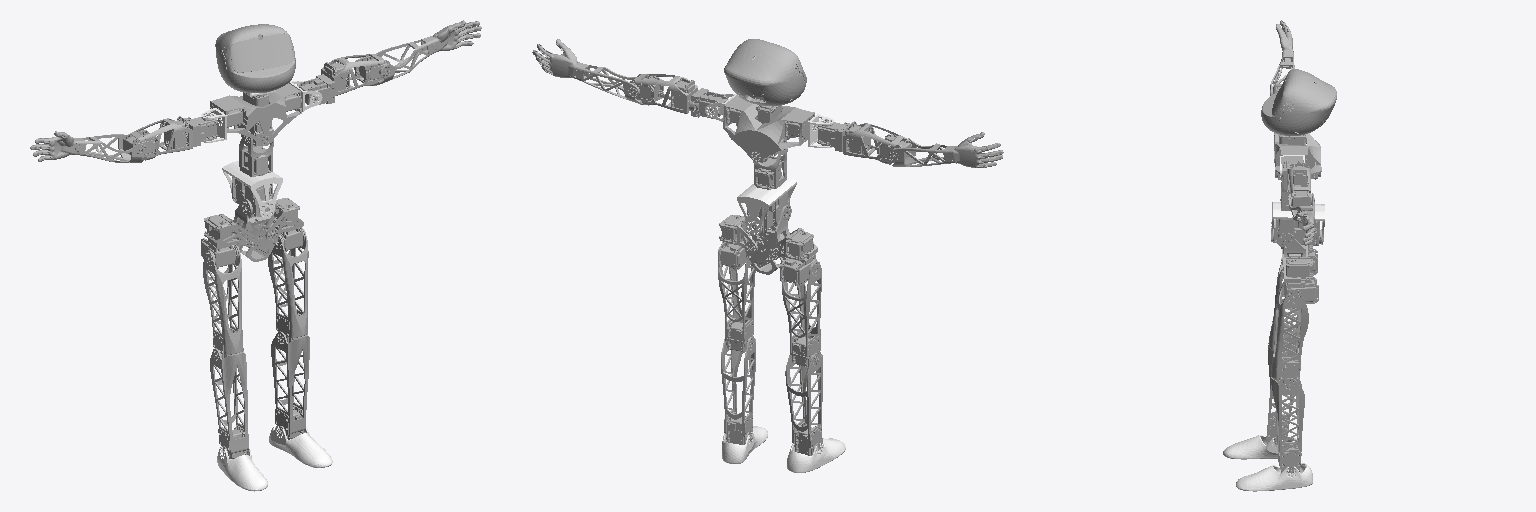
--- What the picture shows (computed from the rendered views, not written in the file) ---
3 views of the same robot in one strip: view 1: azimuth 30°, elevation 25°; view 2: azimuth 150°, elevation 25°; view 3: azimuth 270°, elevation 25° (orthographic).
Model Poppy_Humanoid with 26 links and 25 joints (25 continuous), rooted at pelvis, posed all joints at 0.
Links seen in each view (by area): view 1: head, chest, r_shin, r_thigh, l_shin, l_thigh, r_forearm, l_forearm, r_upper_arm, upper_arm, pelvis, l_foot (+9 smaller); view 2: head, chest, r_thigh, r_shin, l_shin, l_thigh, r_forearm, l_forearm, upper_arm, r_upper_arm, abdomen, pelvis (+10 smaller); view 3: head, l_thigh, l_shin, l_foot, chest, r_foot, upper_arm, abs_motors, l_hip, r_forearm, l_forearm, r_shin (+3 smaller).
Link boxes in pixels (box(x1,y1,x2,y2)): head: box(215, 24, 295, 92); chest: box(210, 83, 301, 145); r_shin: box(210, 348, 249, 458); r_thigh: box(203, 244, 243, 358); l_shin: box(271, 331, 309, 439); l_thigh: box(268, 228, 308, 342); r_forearm: box(30, 131, 146, 162); l_forearm: box(375, 20, 481, 85); r_upper_arm: box(123, 116, 192, 160); upper_arm: box(321, 54, 389, 95); pelvis: box(231, 199, 278, 261); l_foot: box(269, 425, 332, 467); head: box(724, 39, 806, 105); chest: box(723, 95, 815, 162); r_thigh: box(782, 261, 821, 367); r_shin: box(785, 352, 822, 455); l_shin: box(721, 336, 755, 444); l_thigh: box(718, 241, 755, 352); r_forearm: box(889, 132, 1003, 167); l_forearm: box(532, 39, 643, 104); upper_arm: box(629, 74, 697, 113); r_upper_arm: box(843, 121, 911, 164); abdomen: box(737, 175, 796, 234); pelvis: box(745, 205, 791, 274); head: box(1261, 69, 1336, 135); l_thigh: box(1271, 282, 1308, 386); l_shin: box(1271, 377, 1304, 475); l_foot: box(1236, 463, 1312, 491); chest: box(1274, 133, 1321, 177); r_foot: box(1223, 435, 1296, 459); upper_arm: box(1287, 163, 1314, 207); abs_motors: box(1273, 219, 1321, 245); l_hip: box(1282, 257, 1312, 282); r_forearm: box(1270, 20, 1294, 95); l_forearm: box(1288, 193, 1314, 245); r_shin: box(1266, 346, 1298, 446).
Size in the robot's own frame: 0.925 by 0.2142 by 0.8128 metres.
Meshes: 26 distinct files referenced, 26 mesh visuals loaded (26 binary STL).

The robot description file, URDF, robot "Poppy_Humanoid":
<?xml version="1.0" encoding="utf-8"?>
<!-- This URDF was automatically created by SolidWorks to URDF Exporter! Originally created by Stephen Brawner ([email redacted]) 
     Commit Version: 1.6.0-4-g7f85cfe  Build Version: 1.6.7995.38578
     For more information, please see http://wiki.ros.org/sw_urdf_exporter -->
<robot
  name="Poppy_Humanoid">
  <link
    name="pelvis">
    <inertial>
      <origin
        xyz="-0.000182673739714418 0.00155106487837645 0.000250000234069814"
        rpy="0 0 0" />
      <mass
        value="0.185914892869111" />
      <inertia
        ixx="8.32806339991229E-05"
        ixy="-7.59692647482749E-06"
        ixz="3.43586517476102E-09"
        iyy="4.94037348076893E-05"
        iyz="-2.91713589838576E-06"
        izz="8.60688415180713E-05" />
    </inertial>
    <visual>
      <origin
        xyz="0 0 0"
        rpy="0 0 0" />
      <geometry>
        <mesh
          filename="package://Poppy_Humanoid/meshes/pelvis.STL" />
      </geometry>
      <material
        name="">
        <color
          rgba="0.752941176470588 0.752941176470588 0.752941176470588 1" />
      </material>
    </visual>
    <collision>
      <origin
        xyz="0 0 0"
        rpy="0 0 0" />
      <geometry>
        <mesh
          filename="package://Poppy_Humanoid/meshes/pelvis.STL" />
      </geometry>
    </collision>
  </link>
  <link
    name="r_hip">
    <inertial>
      <origin
        xyz="-0.041964776542216 0.0190498540999391 -0.00489206040339155"
        rpy="0 0 0" />
      <mass
        value="0.0846246648821324" />
      <inertia
        ixx="2.55351583272241E-05"
        ixy="1.72351468064852E-07"
        ixz="8.8514173240287E-07"
        iyy="2.45840967279166E-05"
        iyz="2.83096328264019E-07"
        izz="1.76714759671868E-05" />
    </inertial>
    <visual>
      <origin
        xyz="0 0 0"
        rpy="0 0 0" />
      <geometry>
        <mesh
          filename="package://Poppy_Humanoid/meshes/r_hip.STL" />
      </geometry>
      <material
        name="">
        <color
          rgba="0.752941176470588 0.752941176470588 0.752941176470588 1" />
      </material>
    </visual>
    <collision>
      <origin
        xyz="0 0 0"
        rpy="0 0 0" />
      <geometry>
        <mesh
          filename="package://Poppy_Humanoid/meshes/r_hip.STL" />
      </geometry>
    </collision>
  </link>
  <joint
    name="r_hip_x"
    type="continuous">
    <origin
      xyz="-0.022542 0 0"
      rpy="1.5708 -0.023715 0" />
    <parent
      link="pelvis" />
    <child
      link="r_hip" />
    <axis
      xyz="0 0 1" />
  </joint>
  <link
    name="r_hip_motor">
    <inertial>
      <origin
        xyz="0.000109947822346662 -0.0232479247460417 -0.0143205703484508"
        rpy="0 0 0" />
      <mass
        value="0.139059604743432" />
      <inertia
        ixx="4.46493944169366E-05"
        ixy="-1.17597837528885E-12"
        ixz="5.1457236755553E-07"
        iyy="5.2404702390709E-05"
        iyz="2.7482750146531E-09"
        izz="2.97534383204201E-05" />
    </inertial>
    <visual>
      <origin
        xyz="0 0 0"
        rpy="0 0 0" />
      <geometry>
        <mesh
          filename="package://Poppy_Humanoid/meshes/r_hip_motor.STL" />
      </geometry>
      <material
        name="">
        <color
          rgba="0.752941176470588 0.752941176470588 0.752941176470588 1" />
      </material>
    </visual>
    <collision>
      <origin
        xyz="0 0 0"
        rpy="0 0 0" />
      <geometry>
        <mesh
          filename="package://Poppy_Humanoid/meshes/r_hip_motor.STL" />
      </geometry>
    </collision>
  </link>
  <joint
    name="r_hip_z"
    type="continuous">
    <origin
      xyz="-0.043999 0 0.005"
      rpy="0 -0.044101 0" />
    <parent
      link="r_hip" />
    <child
      link="r_hip_motor" />
    <axis
      xyz="0 1 0" />
  </joint>
  <link
    name="r_thigh">
    <inertial>
      <origin
        xyz="-4.85546752001798E-05 -0.142940863185127 0.00161304353481877"
        rpy="0 0 0" />
      <mass
        value="0.117090824417578" />
      <inertia
        ixx="0.000149417237809549"
        ixy="-2.9615187146168E-07"
        ixz="2.64082534981482E-09"
        iyy="4.1393197264348E-05"
        iyz="1.12759306102231E-05"
        izz="0.000151523990233305" />
    </inertial>
    <visual>
      <origin
        xyz="0 0 0"
        rpy="0 0 0" />
      <geometry>
        <mesh
          filename="package://Poppy_Humanoid/meshes/r_thigh.STL" />
      </geometry>
      <material
        name="">
        <color
          rgba="0.752941176470588 0.752941176470588 0.752941176470588 1" />
      </material>
    </visual>
    <collision>
      <origin
        xyz="0 0 0"
        rpy="0 0 0" />
      <geometry>
        <mesh
          filename="package://Poppy_Humanoid/meshes/r_thigh.STL" />
      </geometry>
    </collision>
  </link>
  <joint
    name="r_hip_y"
    type="continuous">
    <origin
      xyz="0 -0.024000000000001 0"
      rpy="-0.0654809290674927 0 0" />
    <parent
      link="r_hip_motor" />
    <child
      link="r_thigh" />
    <axis
      xyz="1 0 0" />
  </joint>
  <link
    name="r_shin">
    <inertial>
      <origin
        xyz="-0.00139035559058887 -0.139920290782115 5.03051603550492E-05"
        rpy="0 0 0" />
      <mass
        value="0.110784895046905" />
      <inertia
        ixx="0.000140479944518955"
        ixy="4.96421445084122E-06"
        ixz="1.82633898388696E-09"
        iyy="3.43543096369098E-05"
        iyz="3.07779201226862E-07"
        izz="0.000138042387894843" />
    </inertial>
    <visual>
      <origin
        xyz="0 0 0"
        rpy="0 0 0" />
      <geometry>
        <mesh
          filename="package://Poppy_Humanoid/meshes/r_shin.STL" />
      </geometry>
      <material
        name="">
        <color
          rgba="0.752941176470588 0.752941176470588 0.752941176470588 1" />
      </material>
    </visual>
    <collision>
      <origin
        xyz="0 0 0"
        rpy="0 0 0" />
      <geometry>
        <mesh
          filename="package://Poppy_Humanoid/meshes/r_shin.STL" />
      </geometry>
    </collision>
  </link>
  <joint
    name="r_knee_y"
    type="continuous">
    <origin
      xyz="0 -0.182 0"
      rpy="-1.57079632679487 1.544754172667 -1.57079632679487" />
    <parent
      link="r_thigh" />
    <child
      link="r_shin" />
    <axis
      xyz="0 0 1" />
  </joint>
  <link
    name="r_foot">
    <inertial>
      <origin
        xyz="-0.00242721348024059 -0.0233556655681074 0.0268820128500432"
        rpy="0 0 0" />
      <mass
        value="0.0467396305777624" />
      <inertia
        ixx="8.13655442785262E-05"
        ixy="-1.76501924950925E-07"
        ixz="2.41240489631906E-06"
        iyy="8.85716799745483E-05"
        iyz="3.20710729117421E-06"
        izz="1.79032798228047E-05" />
    </inertial>
    <visual>
      <origin
        xyz="0 0 0"
        rpy="0 0 0" />
      <geometry>
        <mesh
          filename="package://Poppy_Humanoid/meshes/r_foot.STL" />
      </geometry>
      <material
        name="">
        <color
          rgba="1 1 1 1" />
      </material>
    </visual>
    <collision>
      <origin
        xyz="0 0 0"
        rpy="0 0 0" />
      <geometry>
        <mesh
          filename="package://Poppy_Humanoid/meshes/r_foot.STL" />
      </geometry>
    </collision>
  </link>
  <joint
    name="r_ankle_y"
    type="continuous">
    <origin
      xyz="0 -0.18 0"
      rpy="0.820889590068429 -1.57079631189374 -0.719479139420092" />
    <parent
      link="r_shin" />
    <child
      link="r_foot" />
    <axis
      xyz="-1 0 0" />
  </joint>
  <link
    name="l_hip">
    <inertial>
      <origin
        xyz="0.0419588683478139 0.0190472099707547 -0.00488821387952639"
        rpy="0 0 0" />
      <mass
        value="0.0846364163317082" />
      <inertia
        ixx="2.55415838457327E-05"
        ixy="-1.76489184090987E-07"
        ixz="-8.79211529479094E-07"
        iyy="2.45971459482072E-05"
        iyz="2.85947710152017E-07"
        izz="1.76827995103566E-05" />
    </inertial>
    <visual>
      <origin
        xyz="0 0 0"
        rpy="0 0 0" />
      <geometry>
        <mesh
          filename="package://Poppy_Humanoid/meshes/l_hip.STL" />
      </geometry>
      <material
        name="">
        <color
          rgba="0.752941176470588 0.752941176470588 0.752941176470588 1" />
      </material>
    </visual>
    <collision>
      <origin
        xyz="0 0 0"
        rpy="0 0 0" />
      <geometry>
        <mesh
          filename="package://Poppy_Humanoid/meshes/l_hip.STL" />
      </geometry>
    </collision>
  </link>
  <joint
    name="l_hip_x"
    type="continuous">
    <origin
      xyz="0.0225417390633466 0 0"
      rpy="1.5707963267949 0 0" />
    <parent
      link="pelvis" />
    <child
      link="l_hip" />
    <axis
      xyz="0 0 1" />
  </joint>
  <link
    name="l_hip_motor">
    <inertial>
      <origin
        xyz="-0.000109947844566832 -0.0232479240597816 -0.0143205703730398"
        rpy="0 0 0" />
      <mass
        value="0.139059605355699" />
      <inertia
        ixx="4.46493946800906E-05"
        ixy="-1.18357603225403E-12"
        ixz="-5.14572392769494E-07"
        iyy="5.24047026280284E-05"
        iyz="2.74365211316976E-09"
        izz="2.97534383829136E-05" />
    </inertial>
    <visual>
      <origin
        xyz="0 0 0"
        rpy="0 0 0" />
      <geometry>
        <mesh
          filename="package://Poppy_Humanoid/meshes/l_hip_motor.STL" />
      </geometry>
      <material
        name="">
        <color
          rgba="0.752941176470588 0.752941176470588 0.752941176470588 1" />
      </material>
    </visual>
    <collision>
      <origin
        xyz="0 0 0"
        rpy="0 0 0" />
      <geometry>
        <mesh
          filename="package://Poppy_Humanoid/meshes/l_hip_motor.STL" />
      </geometry>
    </collision>
  </link>
  <joint
    name="l_hip_z"
    type="continuous">
    <origin
      xyz="0.0439986111539756 0 0.00499999999999817"
      rpy="0 0.12300371754066 0" />
    <parent
      link="l_hip" />
    <child
      link="l_hip_motor" />
    <axis
      xyz="0 1 0" />
  </joint>
  <link
    name="l_thigh">
    <inertial>
      <origin
        xyz="-0.000253143367679648 -0.142941764746423 0.00161242178317134"
        rpy="0 0 0" />
      <mass
        value="0.117090454170724" />
      <inertia
        ixx="0.000149420417490303"
        ixy="3.12823084652693E-07"
        ixz="2.70070116987997E-09"
        iyy="4.13919855686854E-05"
        iyz="1.12745163017725E-05"
        izz="0.000151530863840472" />
    </inertial>
    <visual>
      <origin
        xyz="0 0 0"
        rpy="0 0 0" />
      <geometry>
        <mesh
          filename="package://Poppy_Humanoid/meshes/l_thigh.STL" />
      </geometry>
      <material
        name="">
        <color
          rgba="0.752941176470588 0.752941176470588 0.752941176470588 1" />
      </material>
    </visual>
    <collision>
      <origin
        xyz="0 0 0"
        rpy="0 0 0" />
      <geometry>
        <mesh
          filename="package://Poppy_Humanoid/meshes/l_thigh.STL" />
      </geometry>
    </collision>
  </link>
  <joint
    name="l_hip_y"
    type="continuous">
    <origin
      xyz="0 -0.0240000000000002 0"
      rpy="-0.0397561965411015 0 0" />
    <parent
      link="l_hip_motor" />
    <child
      link="l_thigh" />
    <axis
      xyz="1 0 0" />
  </joint>
  <link
    name="l_shin">
    <inertial>
      <origin
        xyz="-0.00139051978430264 -0.139916504246731 -0.000353128648782744"
        rpy="0 0 0" />
      <mass
        value="0.110769292574838" />
      <inertia
        ixx="0.000140472060809585"
        ixy="4.96395263819689E-06"
        ixz="1.39496170488084E-09"
        iyy="3.43548651025464E-05"
        iyz="-3.00892682837703E-07"
        izz="0.000138034020570493" />
    </inertial>
    <visual>
      <origin
        xyz="0 0 0"
        rpy="0 0 0" />
      <geometry>
        <mesh
          filename="package://Poppy_Humanoid/meshes/l_shin.STL" />
      </geometry>
      <material
        name="">
        <color
          rgba="0.752941176470588 0.752941176470588 0.752941176470588 1" />
      </material>
    </visual>
    <collision>
      <origin
        xyz="0 0 0"
        rpy="0 0 0" />
      <geometry>
        <mesh
          filename="package://Poppy_Humanoid/meshes/l_shin.STL" />
      </geometry>
    </collision>
  </link>
  <joint
    name="l_knee_y"
    type="continuous">
    <origin
      xyz="0 -0.182 0"
      rpy="1.57079632679487 1.51589948598406 1.57079632679487" />
    <parent
      link="l_thigh" />
    <child
      link="l_shin" />
    <axis
      xyz="0 0 1" />
  </joint>
  <link
    name="l_foot">
    <inertial>
      <origin
        xyz="0.00213213061471686 -0.0233396988808524 0.0268636941753942"
        rpy="0 0 0" />
      <mass
        value="0.0467790639866005" />
      <inertia
        ixx="8.14030741542412E-05"
        ixy="1.76744351428458E-07"
        ixz="-2.41807263681323E-06"
        iyy="8.85969917655573E-05"
        iyz="3.21556772110656E-06"
        izz="1.79238545840962E-05" />
    </inertial>
    <visual>
      <origin
        xyz="0 0 0"
        rpy="0 0 0" />
      <geometry>
        <mesh
          filename="package://Poppy_Humanoid/meshes/l_foot.STL" />
      </geometry>
      <material
        name="">
        <color
          rgba="1 1 1 1" />
      </material>
    </visual>
    <collision>
      <origin
        xyz="0 0 0"
        rpy="0 0 0" />
      <geometry>
        <mesh
          filename="package://Poppy_Humanoid/meshes/l_foot.STL" />
      </geometry>
    </collision>
  </link>
  <joint
    name="l_ankle_y"
    type="continuous">
    <origin
      xyz="0 -0.18 0"
      rpy="-0.0128652815618684 -1.57079631189374 -0.00223213914996515" />
    <parent
      link="l_shin" />
    <child
      link="l_foot" />
    <axis
      xyz="-1 0 0" />
  </joint>
  <link
    name="abs_motors">
    <inertial>
      <origin
        xyz="-5.48350659475258E-05 0.0142278112536821 -0.0200481491620194"
        rpy="0 0 0" />
      <mass
        value="0.278825904694366" />
      <inertia
        ixx="9.61566860452644E-05"
        ixy="5.14577473137665E-07"
        ixz="-2.52649571396667E-13"
        iyy="5.88468196573007E-05"
        iyz="-5.13861076616456E-07"
        izz="9.69453116287197E-05" />
    </inertial>
    <visual>
      <origin
        xyz="0 0 0"
        rpy="0 0 0" />
      <geometry>
        <mesh
          filename="package://Poppy_Humanoid/meshes/abs_motors.STL" />
      </geometry>
      <material
        name="">
        <color
          rgba="0.752941176470588 0.752941176470588 0.752941176470588 1" />
      </material>
    </visual>
    <collision>
      <origin
        xyz="0 0 0"
        rpy="0 0 0" />
      <geometry>
        <mesh
          filename="package://Poppy_Humanoid/meshes/abs_motors.STL" />
      </geometry>
    </collision>
  </link>
  <joint
    name="abs_y"
    type="continuous">
    <origin
      xyz="0 -0.017 0.061"
      rpy="1.51713961112434 0 0" />
    <parent
      link="pelvis" />
    <child
      link="abs_motors" />
    <axis
      xyz="-0.999972184193155 0.00745860844738909 0" />
  </joint>
  <link
    name="abdomen">
    <inertial>
      <origin
        xyz="-3.41781914026638E-07 0.0444051064388236 -0.0231726269447551"
        rpy="0 0 0" />
      <mass
        value="0.0379602798003174" />
      <inertia
        ixx="6.09515138512281E-05"
        ixy="-1.92962621256873E-11"
        ixz="-3.3075051472433E-09"
        iyy="6.12684651797849E-05"
        iyz="-3.90177668954189E-07"
        izz="2.39613019953646E-05" />
    </inertial>
    <visual>
      <origin
        xyz="0 0 0"
        rpy="0 0 0" />
      <geometry>
        <mesh
          filename="package://Poppy_Humanoid/meshes/abdomen.STL" />
      </geometry>
      <material
        name="">
        <color
          rgba="1 1 1 1" />
      </material>
    </visual>
    <collision>
      <origin
        xyz="0 0 0"
        rpy="0 0 0" />
      <geometry>
        <mesh
          filename="package://Poppy_Humanoid/meshes/abdomen.STL" />
      </geometry>
    </collision>
  </link>
  <joint
    name="abs_x"
    type="continuous">
    <origin
      xyz="0 0 0"
      rpy="0 0 -0.0074587" />
    <parent
      link="abs_motors" />
    <child
      link="abdomen" />
    <axis
      xyz="0 0 -1" />
  </joint>
  <link
    name="spine">
    <inertial>
      <origin
        xyz="-1.84473260871542E-07 0.0289345674635189 -0.0100888036775833"
        rpy="0 0 0" />
      <mass
        value="0.0929446390226476" />
      <inertia
        ixx="3.19375575516805E-05"
        ixy="7.06563414592741E-11"
        ixz="1.89326063928165E-10"
        iyy="2.67683783572167E-05"
        iyz="-6.45882209523109E-07"
        izz="2.68212767280831E-05" />
    </inertial>
    <visual>
      <origin
        xyz="0 0 0"
        rpy="0 0 0" />
      <geometry>
        <mesh
          filename="package://Poppy_Humanoid/meshes/spine.STL" />
      </geometry>
      <material
        name="">
        <color
          rgba="0.752941176470588 0.752941176470588 0.752941176470588 1" />
      </material>
    </visual>
    <collision>
      <origin
        xyz="0 0 0"
        rpy="0 0 0" />
      <geometry>
        <mesh
          filename="package://Poppy_Humanoid/meshes/spine.STL" />
      </geometry>
    </collision>
  </link>
  <joint
    name="abs_z"
    type="continuous">
    <origin
      xyz="0 0.0515349232274412 0"
      rpy="0 0.038996312540617 0" />
    <parent
      link="abdomen" />
    <child
      link="spine" />
    <axis
      xyz="0 -1 0" />
  </joint>
  <link
    name="bust_motors">
    <inertial>
      <origin
        xyz="3.50038584103389E-05 0.010505742917999 -0.0173736602251411"
        rpy="0 0 0" />
      <mass
        value="0.159259714956598" />
      <inertia
        ixx="3.82044671893239E-05"
        ixy="3.04090508148051E-07"
        ixz="-1.86041730229316E-12"
        iyy="2.55920673355131E-05"
        iyz="-3.01366421786436E-07"
        izz="3.85276728402881E-05" />
    </inertial>
    <visual>
      <origin
        xyz="0 0 0"
        rpy="0 0 0" />
      <geometry>
        <mesh
          filename="package://Poppy_Humanoid/meshes/bust_motors.STL" />
      </geometry>
      <material
        name="">
        <color
          rgba="0.752941176470588 0.752941176470588 0.752941176470588 1" />
      </material>
    </visual>
    <collision>
      <origin
        xyz="0 0 0"
        rpy="0 0 0" />
      <geometry>
        <mesh
          filename="package://Poppy_Humanoid/meshes/bust_motors.STL" />
      </geometry>
    </collision>
  </link>
  <joint
    name="bust_y"
    type="continuous">
    <origin
      xyz="0 0.0799525509774566 0.00280000000000001"
      rpy="0.0536951329733316 0 0" />
    <parent
      link="spine" />
    <child
      link="bust_motors" />
    <axis
      xyz="1 0 0" />
  </joint>
  <link
    name="chest">
    <inertial>
      <origin
        xyz="6.52744026775182E-06 0.0514802357214017 -0.00960210074458947"
        rpy="0 0 0" />
      <mass
        value="0.270928891107039" />
      <inertia
        ixx="0.000128480630138179"
        ixy="1.17510782294165E-08"
        ixz="2.49869563877669E-08"
        iyy="0.000217429214728421"
        iyz="-6.28981349825238E-06"
        izz="0.000160505508410875" />
    </inertial>
    <visual>
      <origin
        xyz="0 0 0"
        rpy="0 0 0" />
      <geometry>
        <mesh
          filename="package://Poppy_Humanoid/meshes/chest.STL" />
      </geometry>
      <material
        name="">
        <color
          rgba="0.752941176470588 0.752941176470588 0.752941176470588 1" />
      </material>
    </visual>
    <collision>
      <origin
        xyz="0 0 0"
        rpy="0 0 0" />
      <geometry>
        <mesh
          filename="package://Poppy_Humanoid/meshes/chest.STL" />
      </geometry>
    </collision>
  </link>
  <joint
    name="bust_x"
    type="continuous">
    <origin
      xyz="0 0 0"
      rpy="0 0 0.00957078732054358" />
    <parent
      link="bust_motors" />
    <child
      link="chest" />
    <axis
      xyz="0 0 1" />
  </joint>
  <link
    name="neck">
    <inertial>
      <origin
        xyz="-0.000947044147532484 0.00898373633235444 -1.38777878078145E-17"
        rpy="0 0 0" />
      <mass
        value="0.00592634977544091" />
      <inertia
        ixx="7.60507933479521E-07"
        ixy="6.18800745586376E-08"
        ixz="7.87475943150482E-22"
        iyy="2.411476250881E-06"
        iyz="-7.77549775799846E-23"
        izz="2.64637566125347E-06" />
    </inertial>
    <visual>
      <origin
        xyz="0 0 0"
        rpy="0 0 0" />
      <geometry>
        <mesh
          filename="package://Poppy_Humanoid/meshes/neck.STL" />
      </geometry>
      <material
        name="">
        <color
          rgba="1 1 1 1" />
      </material>
    </visual>
    <collision>
      <origin
        xyz="0 0 0"
        rpy="0 0 0" />
      <geometry>
        <mesh
          filename="package://Poppy_Humanoid/meshes/neck.STL" />
      </geometry>
    </collision>
  </link>
  <joint
    name="head_z"
    type="continuous">
    <origin
      xyz="0 0.0839908898414324 0.00499999999999995"
      rpy="0 -0.150651615663017 0" />
    <parent
      link="chest" />
    <child
      link="neck" />
    <axis
      xyz="0 1 0" />
  </joint>
  <link
    name="head">
    <inertial>
      <origin
        xyz="0.000316260741590431 0.0274540292981018 -0.0143080126634857"
        rpy="0 0 0" />
      <mass
        value="0.163300049904492" />
      <inertia
        ixx="0.000174684950617698"
        ixy="-2.6352692747648E-07"
        ixz="5.8533823985754E-07"
        iyy="0.00023211150652244"
        iyz="3.03974025679324E-05"
        izz="0.000306840135076542" />
    </inertial>
    <visual>
      <origin
        xyz="0 0 0"
        rpy="0 0 0" />
      <geometry>
        <mesh
          filename="package://Poppy_Humanoid/meshes/head.STL" />
      </geometry>
      <material
        name="">
        <color
          rgba="0.752941176470588 0.752941176470588 0.752941176470588 1" />
      </material>
    </visual>
    <collision>
      <origin
        xyz="0 0 0"
        rpy="0 0 0" />
      <geometry>
        <mesh
          filename="package://Poppy_Humanoid/meshes/head.STL" />
      </geometry>
    </collision>
  </link>
  <joint
    name="head_y"
    type="continuous">
    <origin
      xyz="0 0.0200091101585678 0"
      rpy="-0.257122277257672 0 0" />
    <parent
      link="neck" />
    <child
      link="head" />
    <axis
      xyz="-1 0 0" />
  </joint>
  <link
    name="l_shoulder">
    <inertial>
      <origin
        xyz="0.00864523003367736 0.00140277930983301 -0.00905486918336045"
        rpy="0 0 0" />
      <mass
        value="0.00896396525678935" />
      <inertia
        ixx="3.66197072307527E-06"
        ixy="2.3644502985848E-08"
        ixz="-3.19853637868992E-08"
        iyy="3.69450208015046E-06"
        iyz="-6.97061422548079E-09"
        izz="2.09796395974385E-06" />
    </inertial>
    <visual>
      <origin
        xyz="0 0 0"
        rpy="0 0 0" />
      <geometry>
        <mesh
          filename="package://Poppy_Humanoid/meshes/l_shoulder.STL" />
      </geometry>
      <material
        name="">
        <color
          rgba="1 1 1 1" />
      </material>
    </visual>
    <collision>
      <origin
        xyz="0 0 0"
        rpy="0 0 0" />
      <geometry>
        <mesh
          filename="package://Poppy_Humanoid/meshes/l_shoulder.STL" />
      </geometry>
    </collision>
  </link>
  <joint
    name="l_shoulder_y"
    type="continuous">
    <origin
      xyz="0.0785588930792943 0.0499999999999995 0.00399999999999989"
      rpy="0.0226593678827122 0 0" />
    <parent
      link="chest" />
    <child
      link="l_shoulder" />
    <axis
      xyz="-1 0 0" />
  </joint>
  <link
    name="l_shoulder_motor">
    <inertial>
      <origin
        xyz="6.62335022993954E-07 -0.0129499194279119 -0.00858252029079602"
        rpy="0 0 0" />
      <mass
        value="0.0838780171424037" />
      <inertia
        ixx="2.18198071767779E-05"
        ixy="-4.72309999135834E-10"
        ixz="1.07522264084494E-09"
        iyy="1.50600025408577E-05"
        iyz="-2.99144629871921E-07"
        izz="1.87673842314372E-05" />
    </inertial>
    <visual>
      <origin
        xyz="0 0 0"
        rpy="0 0 0" />
      <geometry>
        <mesh
          filename="package://Poppy_Humanoid/meshes/l_shoulder_motor.STL" />
      </geometry>
      <material
        name="">
        <color
          rgba="0.752941176470588 0.752941176470588 0.752941176470588 1" />
      </material>
    </visual>
    <collision>
      <origin
        xyz="0 0 0"
        rpy="0 0 0" />
      <geometry>
        <mesh
          filename="package://Poppy_Humanoid/meshes/l_shoulder_motor.STL" />
      </geometry>
    </collision>
  </link>
  <joint
    name="l_shoulder_x"
    type="continuous">
    <origin
      xyz="0.0269411069207058 0 0"
      rpy="0 0 1.56874719947428" />
    <parent
      link="l_shoulder" />
    <child
      link="l_shoulder_motor" />
    <axis
      xyz="0 0 -1" />
  </joint>
  <link
    name="upper_arm">
    <inertial>
      <origin
        xyz="3.33272045042752E-05 -0.0626072551827437 0.0106229399797933"
        rpy="0 0 0" />
      <mass
        value="0.16737477111552" />
      <inertia
        ixx="5.92643504021223E-05"
        ixy="3.04797808199423E-07"
        ixz="2.21557104727228E-10"
        iyy="3.95086181957679E-05"
        iyz="-4.26864917429247E-07"
        izz="5.30046037273707E-05" />
    </inertial>
    <visual>
      <origin
        xyz="0 0 0"
        rpy="0 0 0" />
      <geometry>
        <mesh
          filename="package://Poppy_Humanoid/meshes/upper_arm.STL" />
      </geometry>
      <material
        name="">
        <color
          rgba="0.752941176470588 0.752941176470588 0.752941176470588 1" />
      </material>
    </visual>
    <collision>
      <origin
        xyz="0 0 0"
        rpy="0 0 0" />
      <geometry>
        <mesh
          filename="package://Poppy_Humanoid/meshes/upper_arm.STL" />
      </geometry>
    </collision>
  </link>
  <joint
    name="l_arm_z"
    type="continuous">
    <origin
      xyz="0 -0.0374405904973501 -0.0185000000000006"
      rpy="3.14159265358979 1.5546131469944 3.14159265358979" />
    <parent
      link="l_shoulder_motor" />
    <child
      link="upper_arm" />
    <axis
      xyz="0 1 0" />
  </joint>
  <link
    name="l_forearm">
    <inertial>
      <origin
        xyz="0.00689723447978666 -0.108296854960403 -0.00483977041181713"
        rpy="0 0 0" />
      <mass
        value="0.0473263583577053" />
      <inertia
        ixx="6.00337053784709E-05"
        ixy="2.75013030542932E-06"
        ixz="3.55413579215153E-07"
        iyy="1.37921260237243E-05"
        iyz="3.74074558271403E-06"
        izz="5.74557314807049E-05" />
    </inertial>
    <visual>
      <origin
        xyz="0 0 0"
        rpy="0 0 0" />
      <geometry>
        <mesh
          filename="package://Poppy_Humanoid/meshes/l_forearm.STL" />
      </geometry>
      <material
        name="">
        <color
          rgba="0.752941176470588 0.752941176470588 0.752941176470588 1" />
      </material>
    </visual>
    <collision>
      <origin
        xyz="0 0 0"
        rpy="0 0 0" />
      <geometry>
        <mesh
          filename="package://Poppy_Humanoid/meshes/l_forearm.STL" />
      </geometry>
    </collision>
  </link>
  <joint
    name="l_elbow_y"
    type="continuous">
    <origin
      xyz="0 -0.111559409502652 0.0100000000000002"
      rpy="-0.121325187109238 0 0" />
    <parent
      link="upper_arm" />
    <child
      link="l_forearm" />
    <axis
      xyz="1 0 0" />
  </joint>
  <link
    name="r_shoulder">
    <inertial>
      <origin
        xyz="-0.00864774202802029 0.00140286675566095 -0.00905451690979794"
        rpy="0 0 0" />
      <mass
        value="0.00896474372459065" />
      <inertia
        ixx="3.66212894061893E-06"
        ixy="-2.38203892850203E-08"
        ixz="3.20072630001393E-08"
        iyy="3.69457381923916E-06"
        iyz="-6.97614586584587E-09"
        izz="2.09801521172538E-06" />
    </inertial>
    <visual>
      <origin
        xyz="0 0 0"
        rpy="0 0 0" />
      <geometry>
        <mesh
          filename="package://Poppy_Humanoid/meshes/r_shoulder.STL" />
      </geometry>
      <material
        name="">
        <color
          rgba="1 1 1 1" />
      </material>
    </visual>
    <collision>
      <origin
        xyz="0 0 0"
        rpy="0 0 0" />
      <geometry>
        <mesh
          filename="package://Poppy_Humanoid/meshes/r_shoulder.STL" />
      </geometry>
    </collision>
  </link>
  <joint
    name="r_shoulder_y"
    type="continuous">
    <origin
      xyz="-0.0785571680205247 0.0499999999999997 0.00399999999999994"
      rpy="-1.57193529946344 0 0" />
    <parent
      link="chest" />
    <child
      link="r_shoulder" />
    <axis
      xyz="-1 0 0" />
  </joint>
  <link
    name="r_shoulder_motor">
    <inertial>
      <origin
        xyz="6.62286845615201E-07 -0.0129499197071435 -0.00858252081189093"
        rpy="0 0 0" />
      <mass
        value="0.083878021443538" />
      <inertia
        ixx="2.18198081054197E-05"
        ixy="-4.72237930656161E-10"
        ixz="1.07512540787159E-09"
        iyy="1.50600033587679E-05"
        iyz="-2.99144835447111E-07"
        izz="1.87673852016955E-05" />
    </inertial>
    <visual>
      <origin
        xyz="0 0 0"
        rpy="0 0 0" />
      <geometry>
        <mesh
          filename="package://Poppy_Humanoid/meshes/r_shoulder_motor.STL" />
      </geometry>
      <material
        name="">
        <color
          rgba="0.752941176470588 0.752941176470588 0.752941176470588 1" />
      </material>
    </visual>
    <collision>
      <origin
        xyz="0 0 0"
        rpy="0 0 0" />
      <geometry>
        <mesh
          filename="package://Poppy_Humanoid/meshes/r_shoulder_motor.STL" />
      </geometry>
    </collision>
  </link>
  <joint
    name="r_shoulder_x"
    type="continuous">
    <origin
      xyz="-0.0269428319794755 0 0"
      rpy="0 0 -1.59140124693212" />
    <parent
      link="r_shoulder" />
    <child
      link="r_shoulder_motor" />
    <axis
      xyz="0 0 -1" />
  </joint>
  <link
    name="r_upper_arm">
    <inertial>
      <origin
        xyz="-3.32642151916057E-05 -0.0627602501094768 0.0106229547673878"
        rpy="0 0 0" />
      <mass
        value="0.167374630609768" />
      <inertia
        ixx="5.92642416393519E-05"
        ixy="-3.03314173319744E-07"
        ixz="2.52095363649874E-10"
        iyy="3.95085487691584E-05"
        iyz="-4.2682223257179E-07"
        izz="5.30045162406606E-05" />
    </inertial>
    <visual>
      <origin
        xyz="0 0 0"
        rpy="0 0 0" />
      <geometry>
        <mesh
          filename="package://Poppy_Humanoid/meshes/r_upper_arm.STL" />
      </geometry>
      <material
        name="">
        <color
          rgba="0.752941176470588 0.752941176470588 0.752941176470588 1" />
      </material>
    </visual>
    <collision>
      <origin
        xyz="0 0 0"
        rpy="0 0 0" />
      <geometry>
        <mesh
          filename="package://Poppy_Humanoid/meshes/r_upper_arm.STL" />
      </geometry>
    </collision>
  </link>
  <joint
    name="r_arm_z"
    type="continuous">
    <origin
      xyz="0 -0.0372875842562274 -0.0184999999999999"
      rpy="0 -0.0424996253723622 0" />
    <parent
      link="r_shoulder_motor" />
    <child
      link="r_upper_arm" />
    <axis
      xyz="0 1 0" />
  </joint>
  <link
    name="r_forearm">
    <inertial>
      <origin
        xyz="-0.00736790974037366 -0.108296246465566 -0.00483982138922165"
        rpy="0 0 0" />
      <mass
        value="0.0473276359144023" />
      <inertia
        ixx="6.00345079028228E-05"
        ixy="-2.7503354979182E-06"
        ixz="-3.55284363318217E-07"
        iyy="1.37922936717591E-05"
        iyz="3.74100391088275E-06"
        izz="5.74565256249264E-05" />
    </inertial>
    <visual>
      <origin
        xyz="0 0 0"
        rpy="0 0 0" />
      <geometry>
        <mesh
          filename="package://Poppy_Humanoid/meshes/r_forearm.STL" />
      </geometry>
      <material
        name="">
        <color
          rgba="0.752941176470588 0.752941176470588 0.752941176470588 1" />
      </material>
    </visual>
    <collision>
      <origin
        xyz="0 0 0"
        rpy="0 0 0" />
      <geometry>
        <mesh
          filename="package://Poppy_Humanoid/meshes/r_forearm.STL" />
      </geometry>
    </collision>
  </link>
  <joint
    name="r_elbow_y"
    type="continuous">
    <origin
      xyz="0 -0.111712415743772 0.0100000000000001"
      rpy="-0.230458400586631 0 0" />
    <parent
      link="r_upper_arm" />
    <child
      link="r_forearm" />
    <axis
      xyz="1 0 0" />
  </joint>
</robot>
